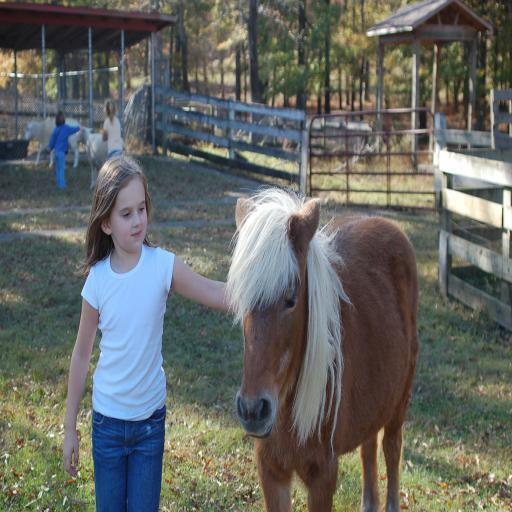horse: (234, 178, 418, 512)
